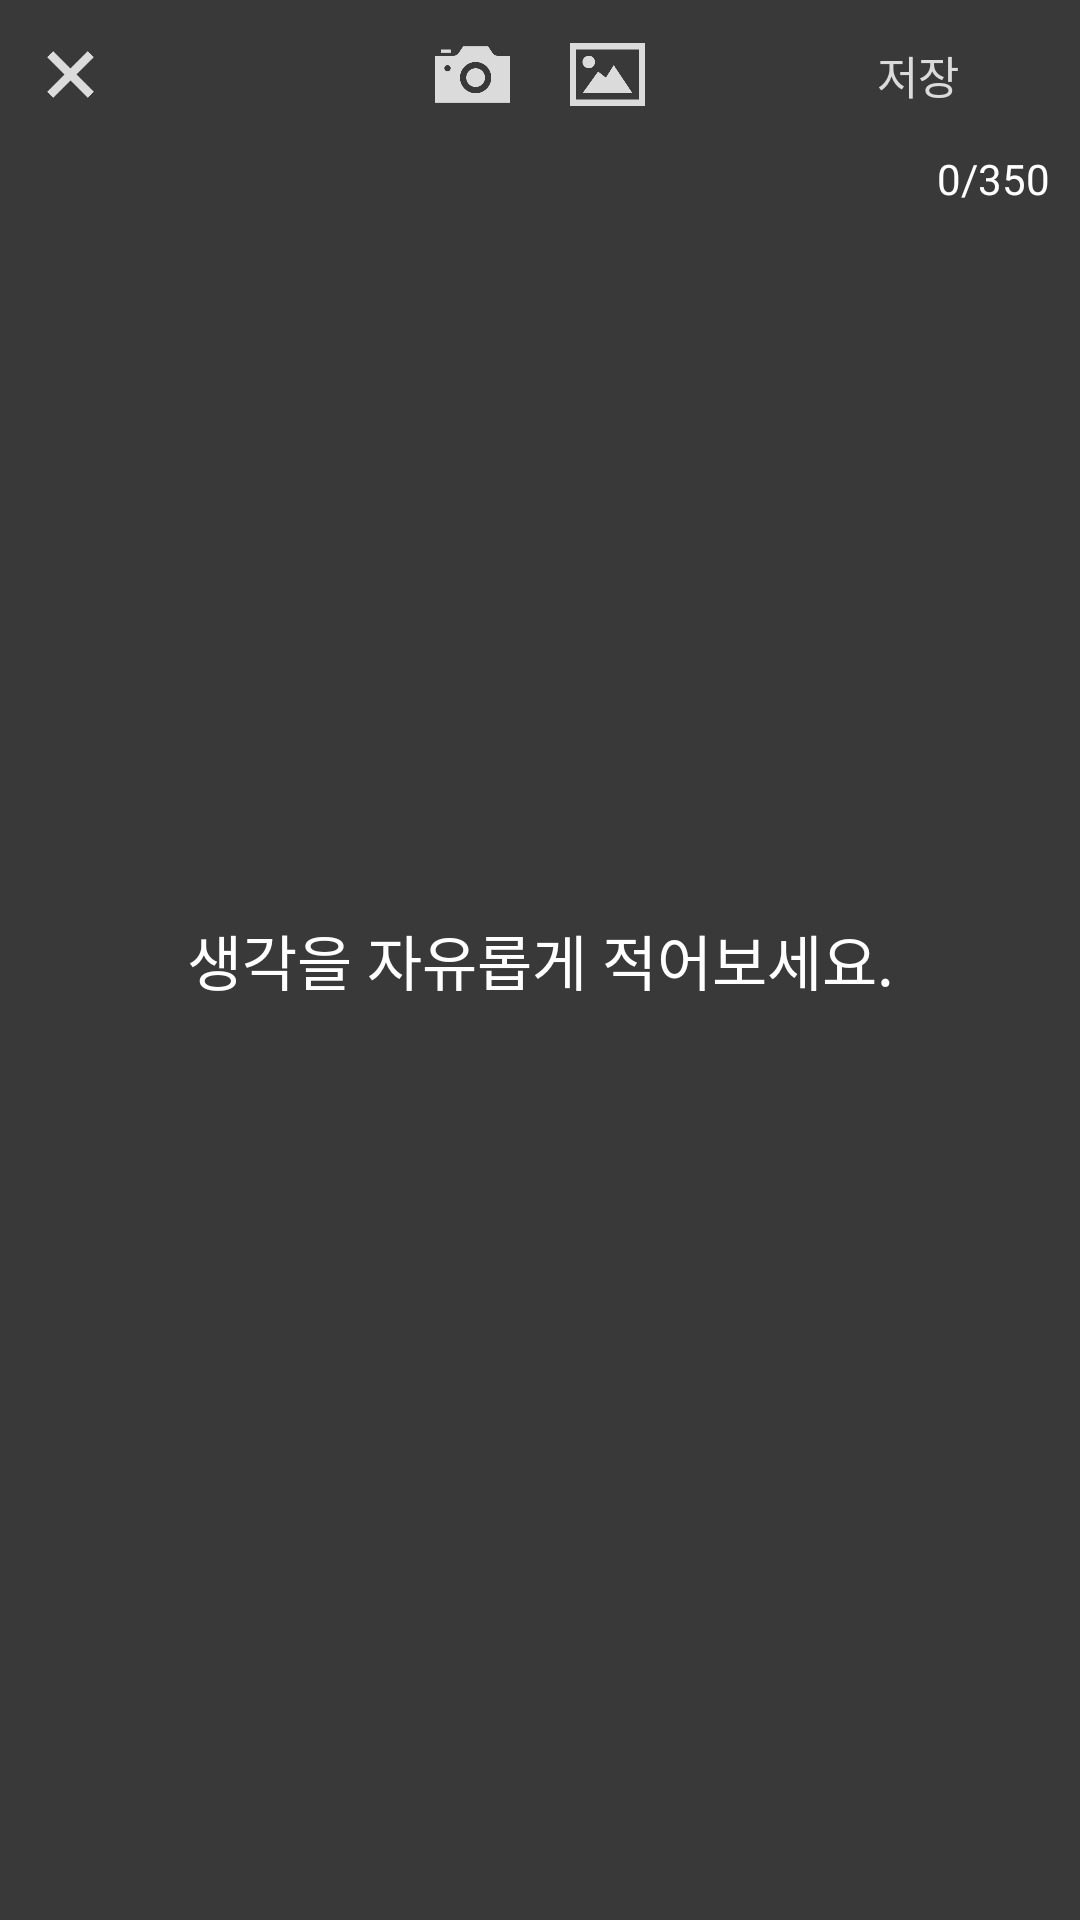

Screen size 1080 × 1920. Icon name, then its center in pixels as (x=x, y=y):
camera: (x=472, y=74)
close: (x=70, y=74)
